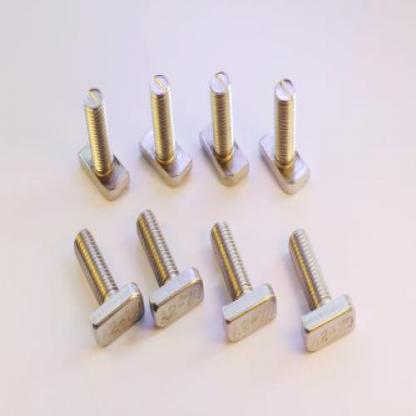FOD: (287, 224, 359, 353), (74, 226, 146, 352), (210, 217, 278, 345), (136, 206, 204, 329), (137, 70, 195, 186), (256, 77, 311, 198), (76, 83, 131, 203), (198, 67, 252, 188)
